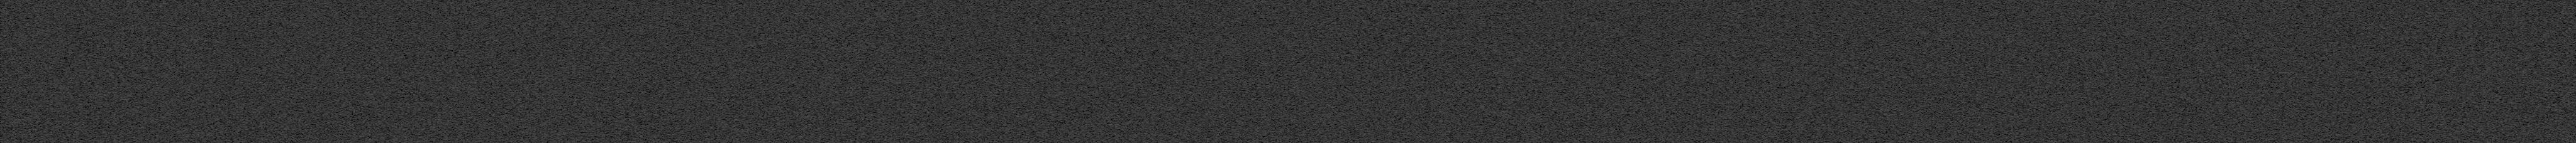wv_lsb: (250, 0, 255, 56), (327, 2, 330, 79), (325, 105, 330, 143), (250, 110, 255, 143), (250, 74, 255, 82), (250, 56, 255, 64), (327, 87, 330, 95), (251, 84, 255, 87), (327, 82, 330, 85), (327, 102, 330, 104), (253, 95, 255, 99), (251, 66, 255, 67), (327, 99, 330, 100)
wv_wbfm: (1672, 0, 1784, 143), (1776, 5, 1787, 8), (1779, 0, 1784, 3), (1779, 61, 1784, 62), (1784, 58, 1787, 59)
